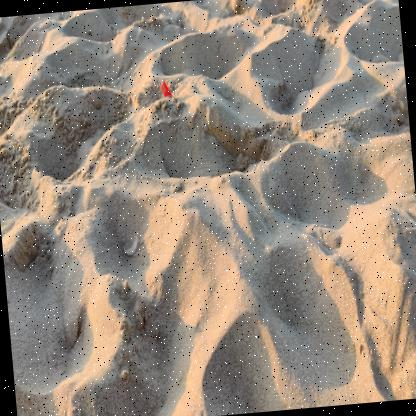Other plastic bottle: (160, 80, 173, 97)
Rope - strings: (125, 238, 140, 257)
